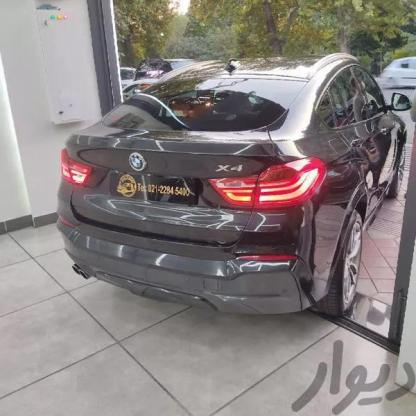Car: (58, 57, 403, 338)
